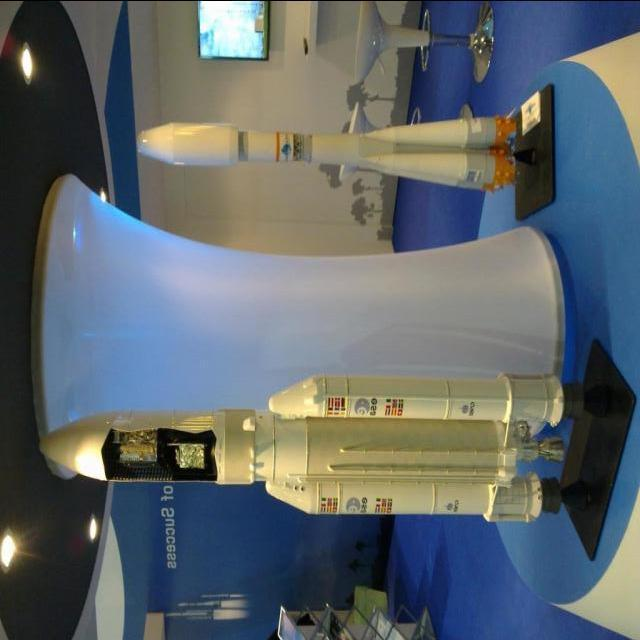missile: (37, 374, 607, 540), (126, 96, 544, 216)
